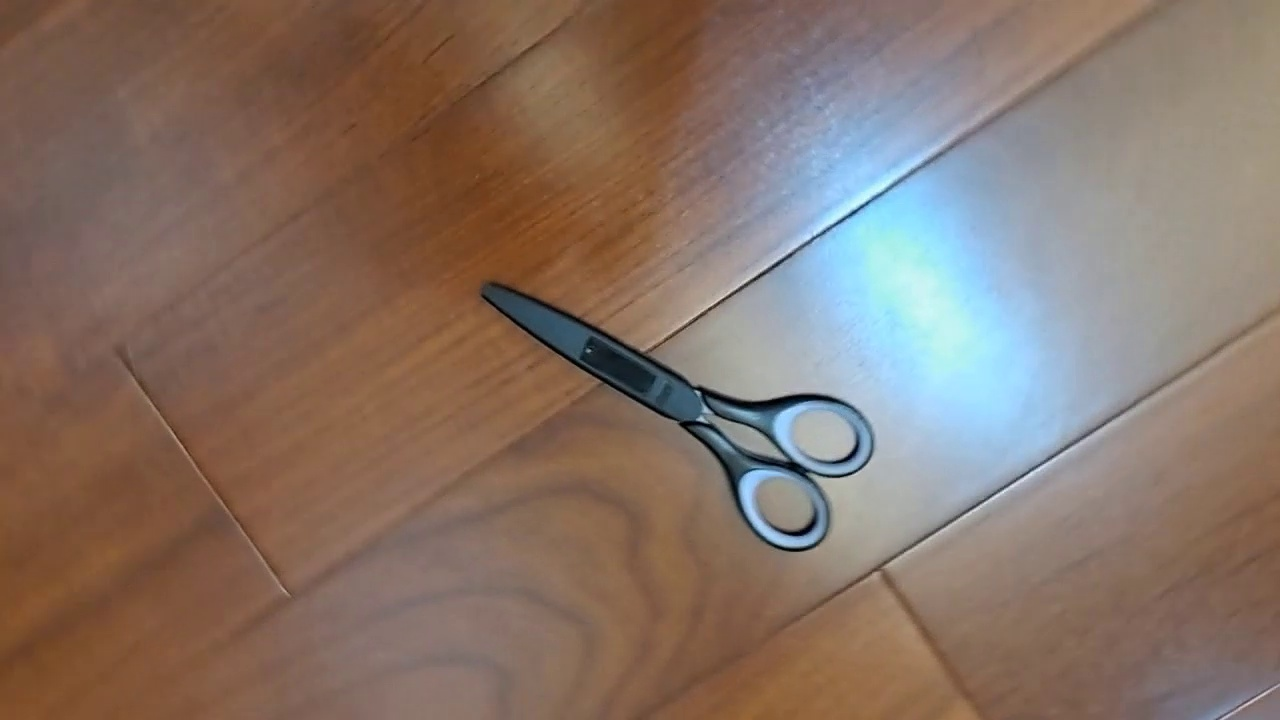scissors: (478, 280, 875, 552)
